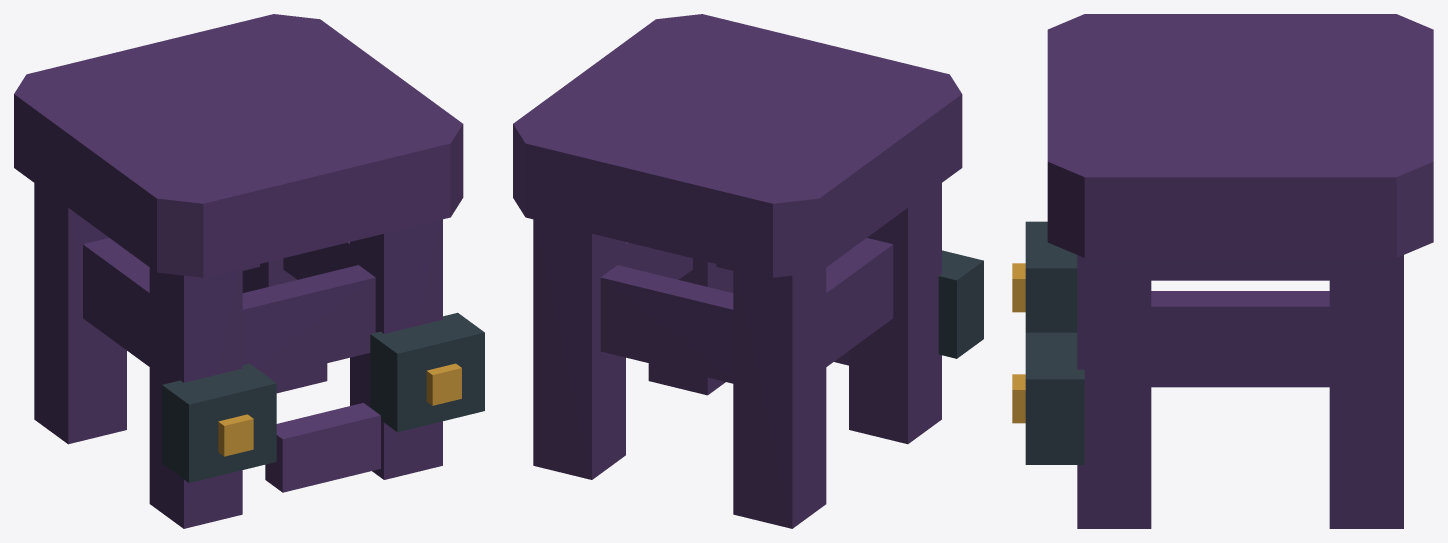
Rendered from market-stool-lilac.glb.
3 views of the same model, side by side, from view 1: azimuth 30°, elevation 25°; view 2: azimuth 150°, elevation 25°; view 3: azimuth 270°, elevation 25° (orthographic). The views are drawn at different scales.
Visible parts, largest first — view 1: market-stool-lilac; view 2: market-stool-lilac; view 3: market-stool-lilac.
Boxes of the visible parts, x1,y1,x2,y2 form: market-stool-lilac: [14, 14, 484, 528]; market-stool-lilac: [513, 14, 983, 528]; market-stool-lilac: [1012, 14, 1433, 528].
Bounding box in the file's own units: 0.49 × 0.51 × 0.5347.
